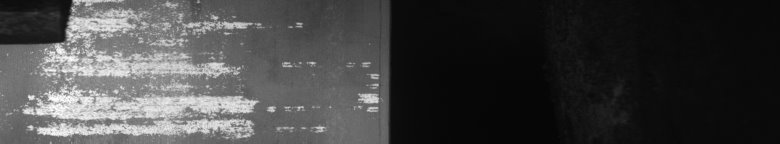kb: (4, 4, 380, 136)
